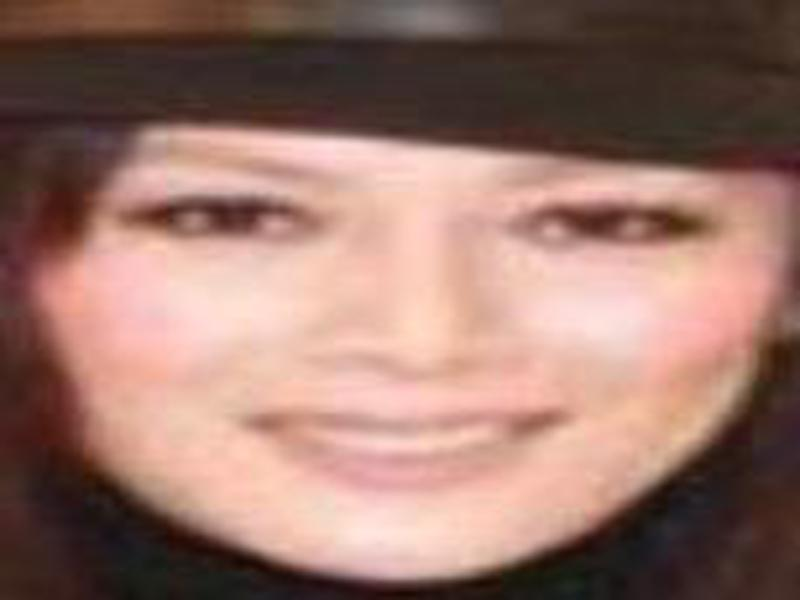without_mask: (49, 127, 772, 584)
